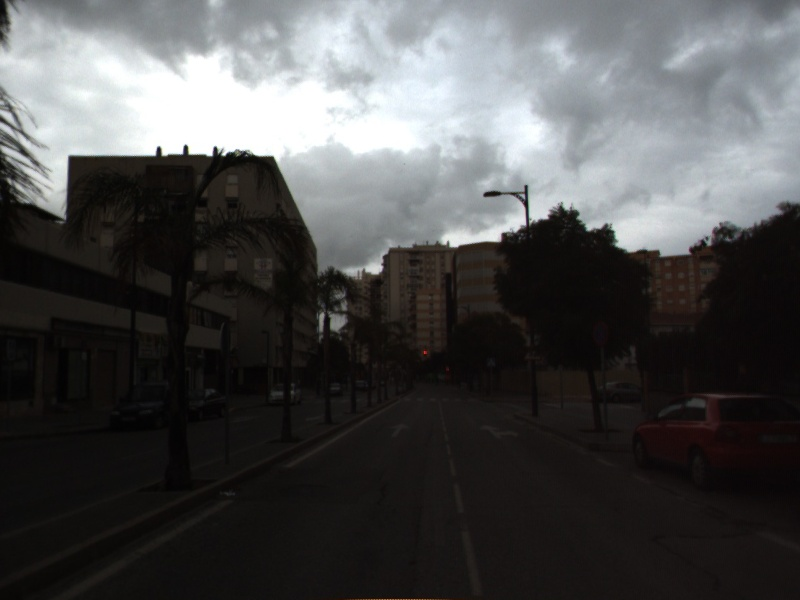STRAIGHT: (387, 421, 412, 439)
STRAIGHT_RIGHT: (478, 422, 520, 440)
